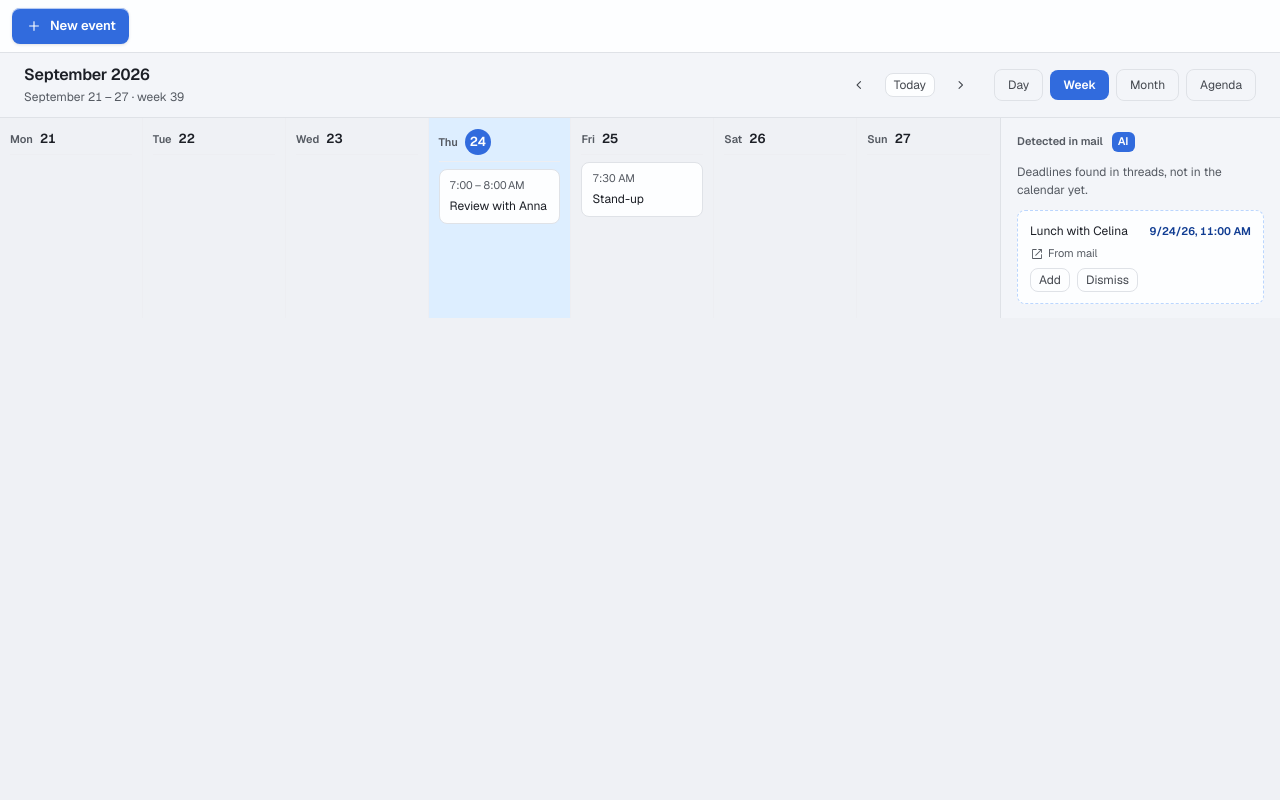
it: CalendarSpace › says so where one of a batch was refused rather than reporting the whole of it as done
Click the option "7:00 – 8:00 AM Review with Anna" at (500, 196), box top-left (439, 169), bottom-right (560, 224)
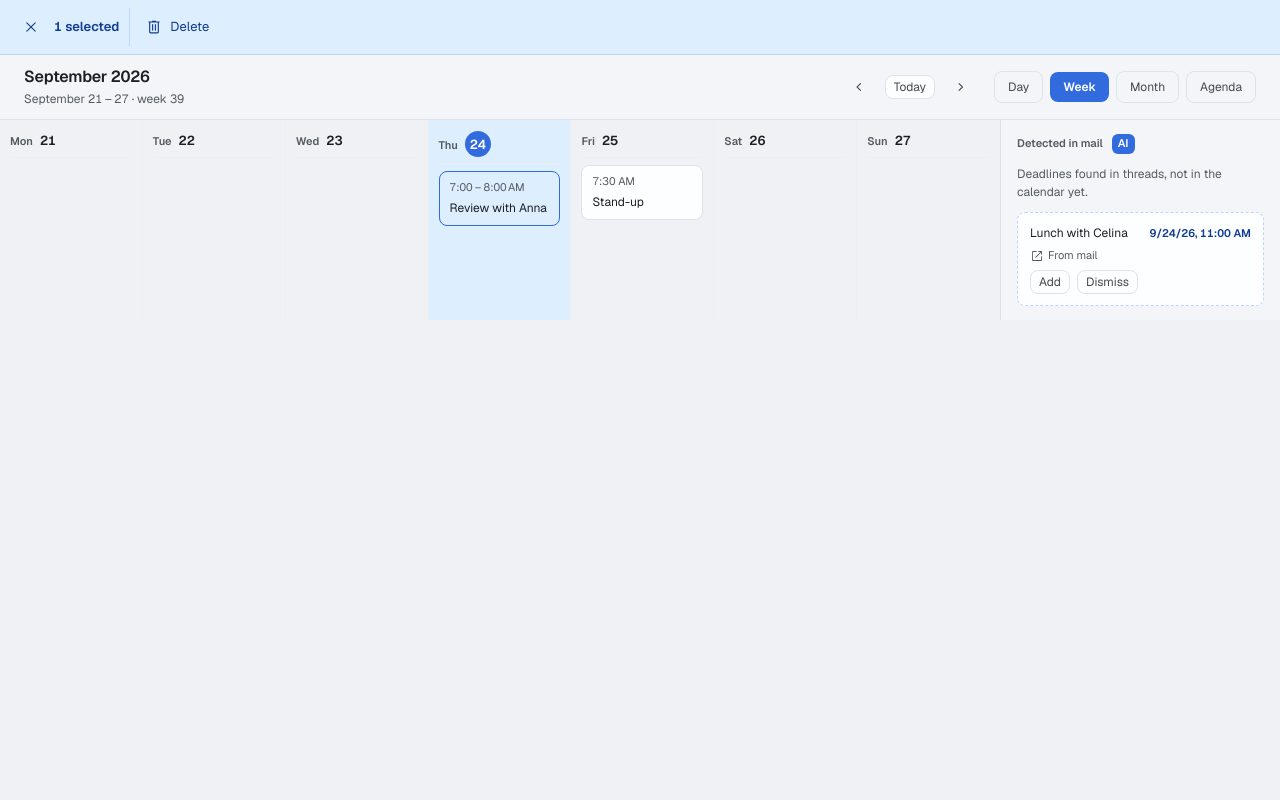
Click the option "7:30 AM Stand-up" at (642, 192), box top-left (581, 165), bottom-right (703, 220)
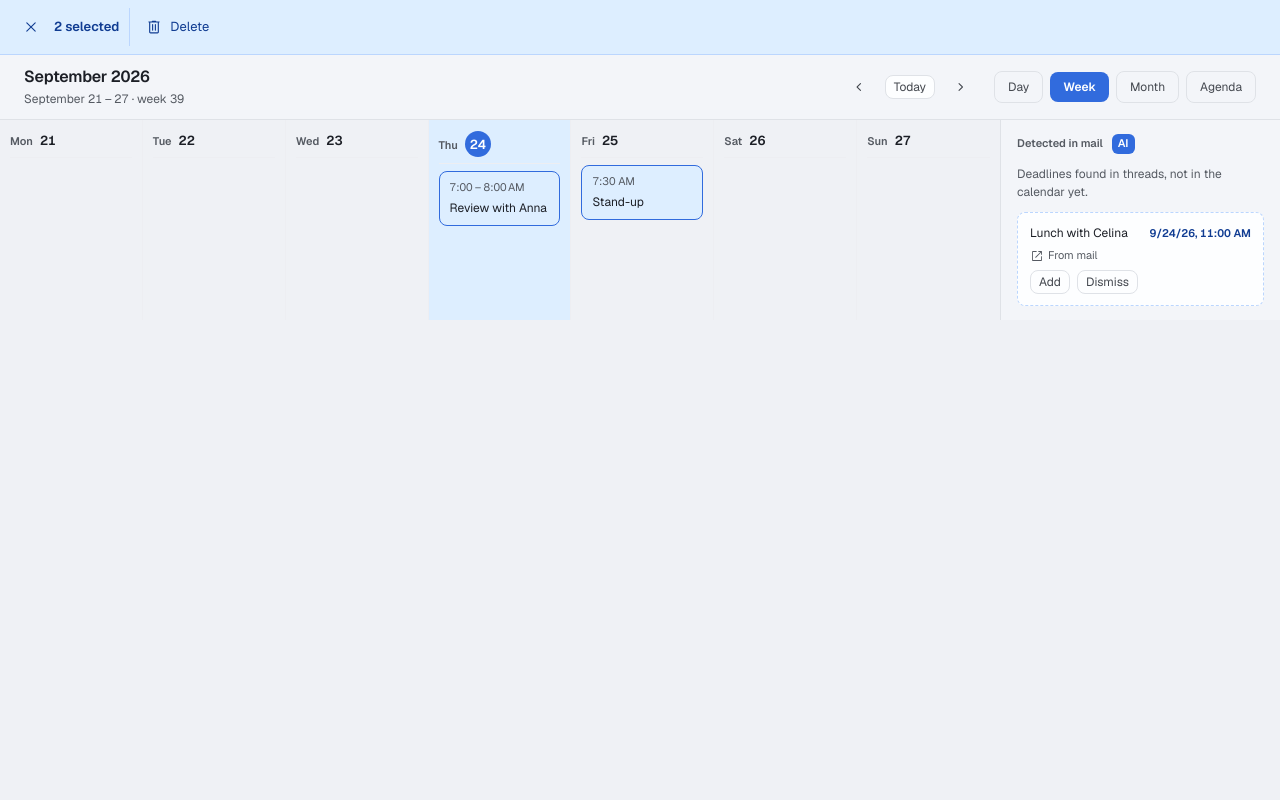
Click the button "Delete" at (177, 27), box top-left (134, 10), bottom-right (220, 44)
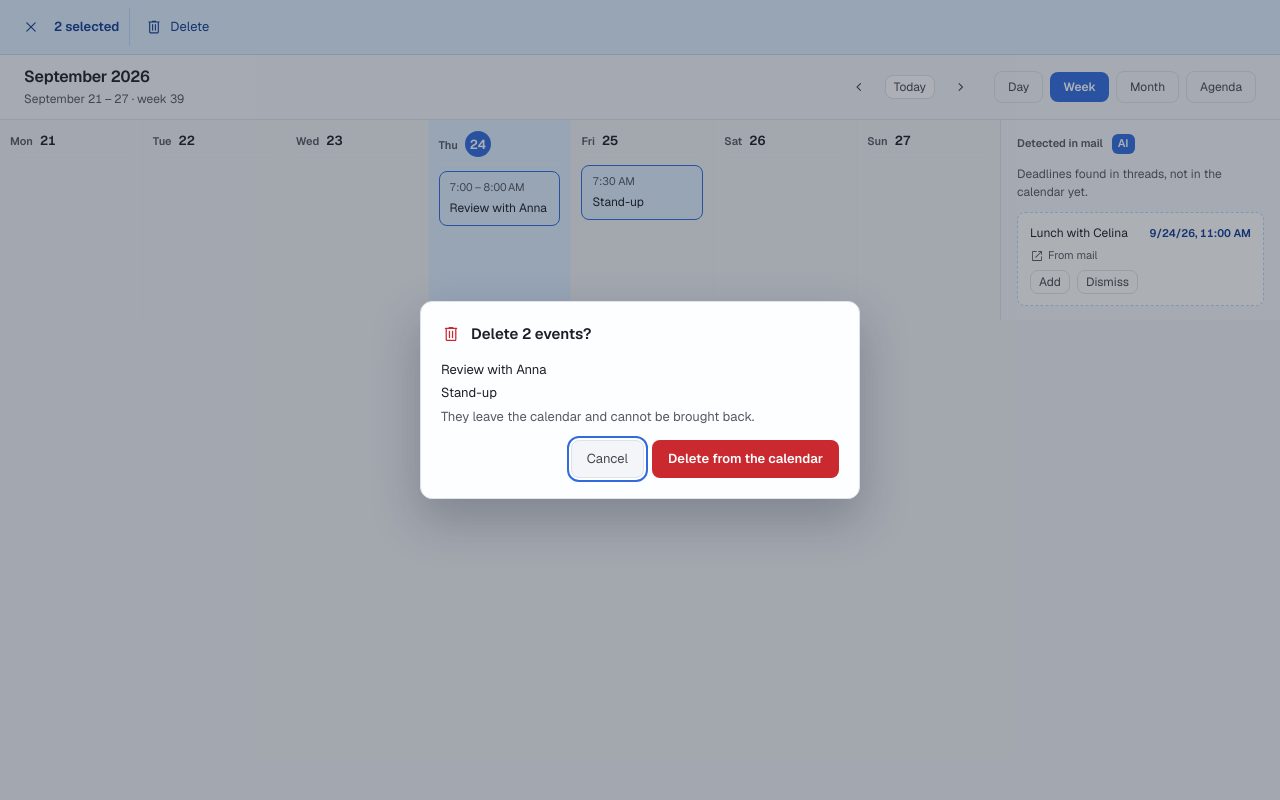
Click the button "Delete from the calendar" at (746, 459), box top-left (652, 440), bottom-right (839, 478)
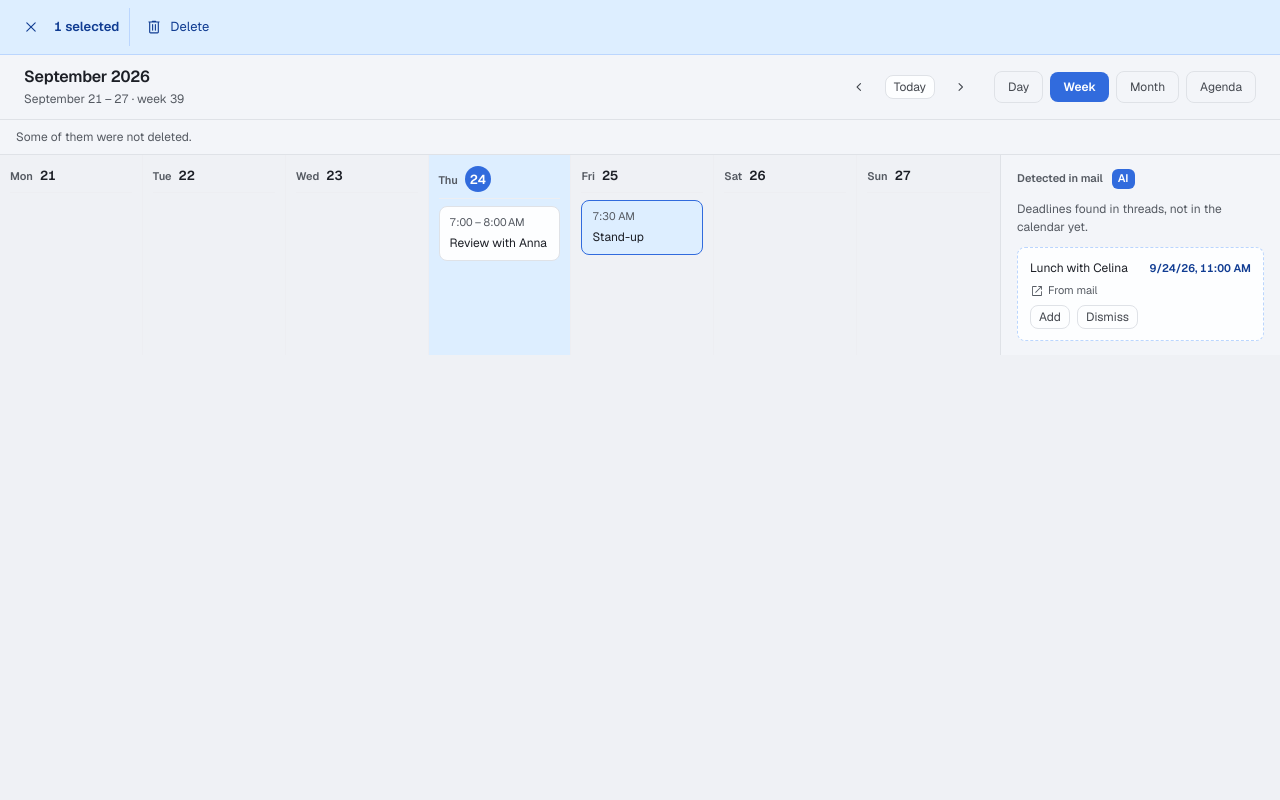
Now the text "Some of them were not deleted." is shown, box top-left (0, 120), bottom-right (1279, 155)
